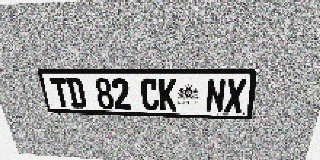2: (111, 78, 131, 110)
8: (94, 78, 115, 109)
C: (140, 79, 159, 110)
D: (65, 78, 87, 108)
K: (158, 79, 177, 111)
N: (205, 79, 226, 112)
T: (49, 78, 72, 108)
X: (224, 79, 247, 113)
